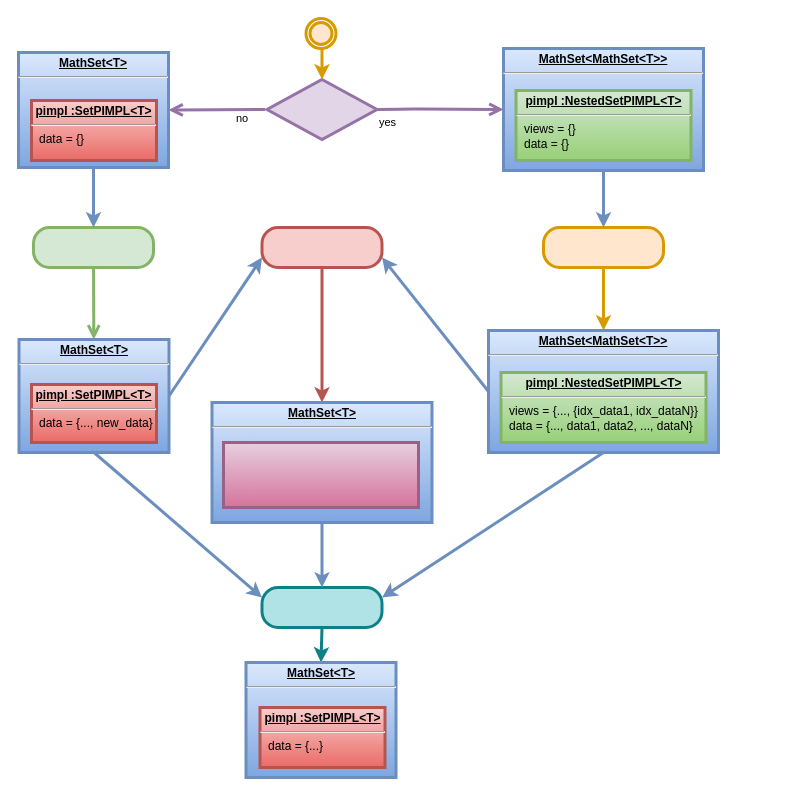
Image size: 801x796. Some labels were removed from this diagram. Here are the shapes that lost their labels. From the top down, the box of each, then its label:
(265, 78, 378, 140): Elements are MathSet?
(32, 226, 154, 268): Add Element
(260, 226, 383, 268): Intersection, set difference, or select
(542, 226, 664, 268): Add N element set
(222, 440, 420, 508): pimpl :SelectionViewPIMPL<T> indices = {i, j} parent = address_of_parent
(260, 586, 383, 628): copy construct
